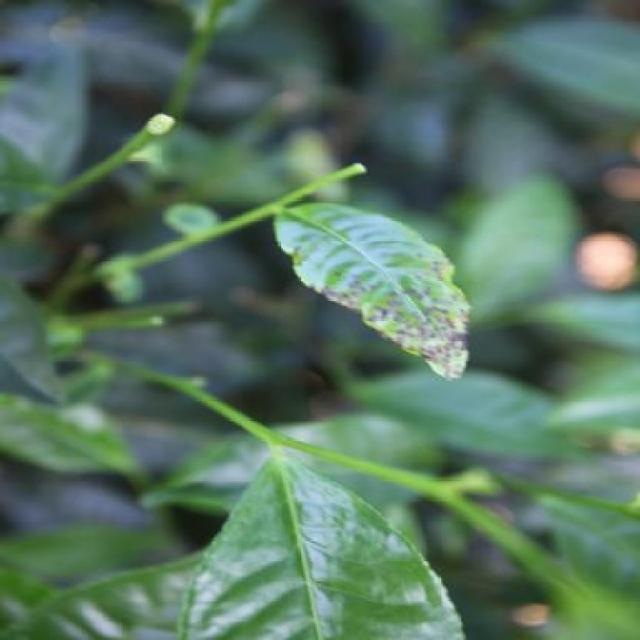Tea Mosquito bug infested leaf: (266, 200, 492, 383)
